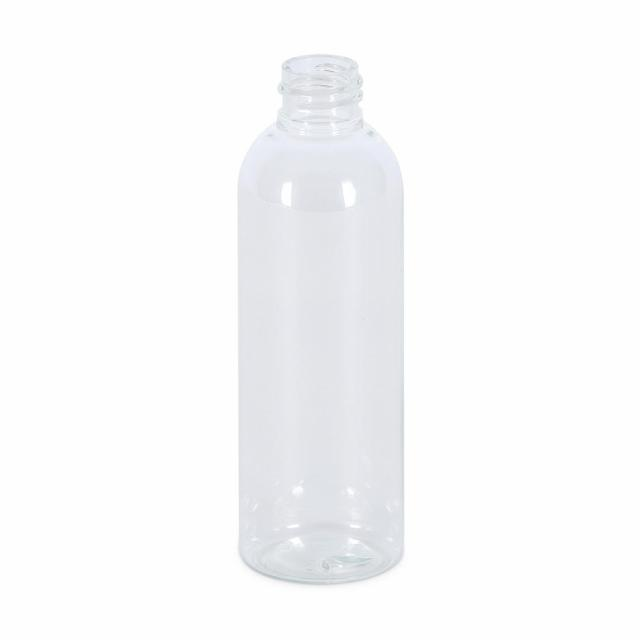plastic_bottle: (210, 45, 451, 593)
